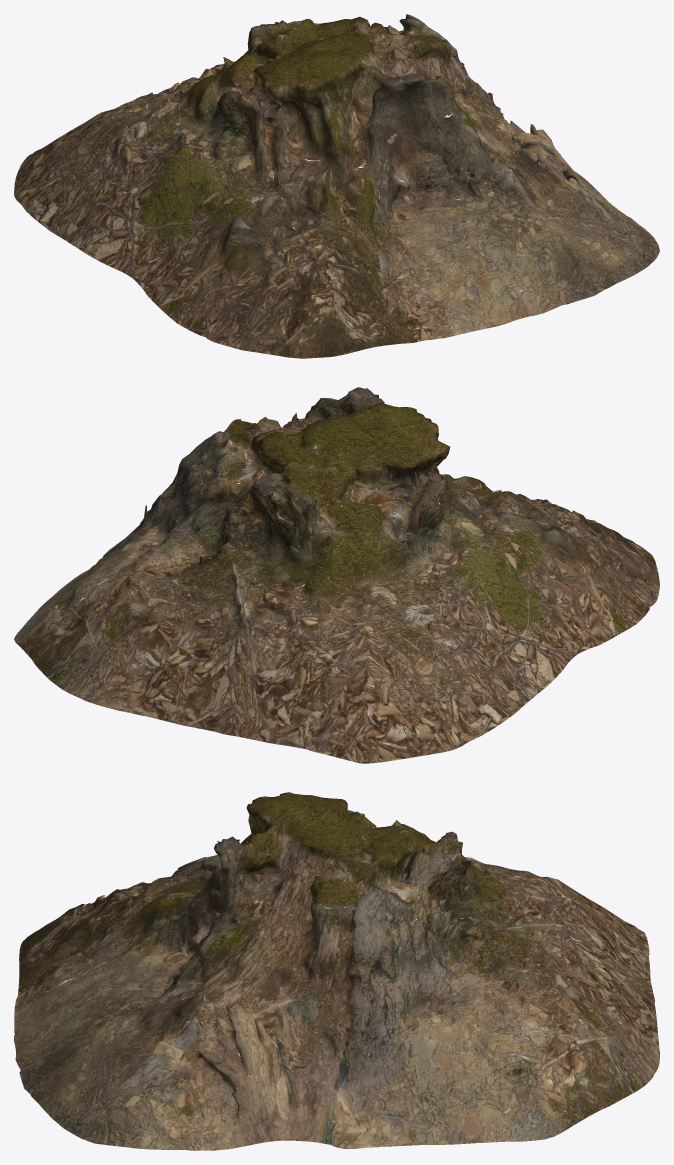
Rendered from tree_stump_01.glb.
The picture shows the model from 3 angles, top to bottom: view 1: azimuth 30°, elevation 25°; view 2: azimuth 150°, elevation 25°; view 3: azimuth 270°, elevation 25°; orthographic projection. The views are drawn at different scales.
Parts seen in each view (by area): view 1: tree_stump_01; view 2: tree_stump_01; view 3: tree_stump_01.
Part boxes in pixels (box(x1,y1,x2,y2)): tree_stump_01: box(14, 14, 659, 358); tree_stump_01: box(14, 387, 659, 763); tree_stump_01: box(14, 792, 659, 1150).
Size of the model in its own units: 1.43 by 0.5723 by 1.59.
1 material, 1 textured.
